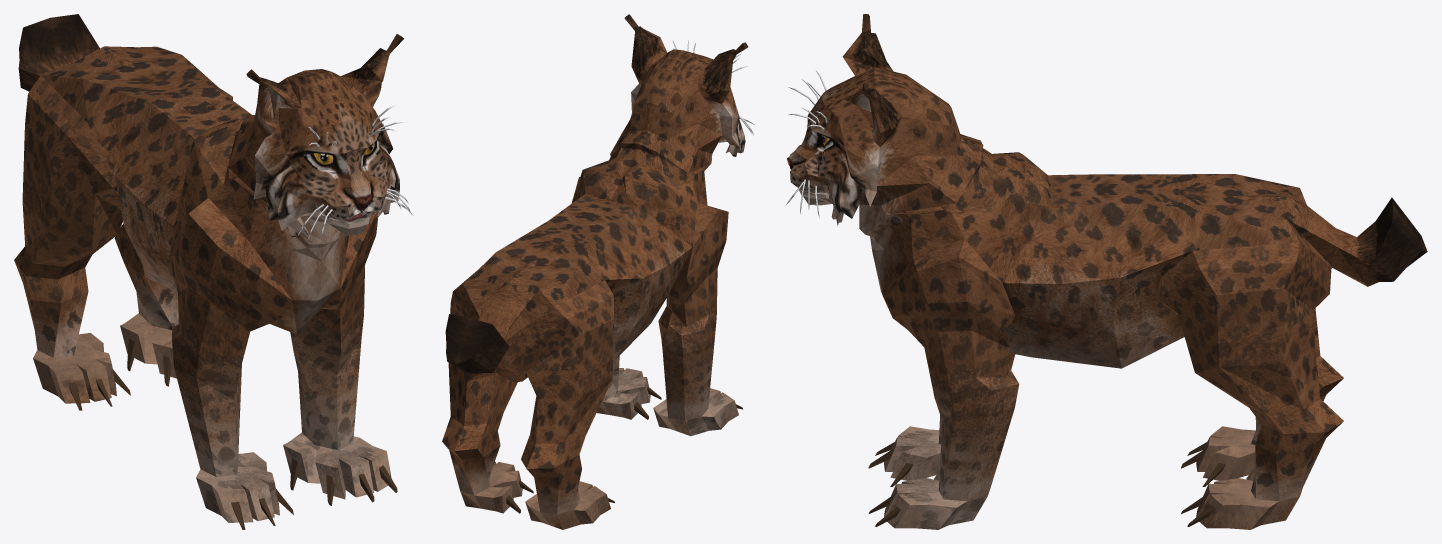
The picture shows the model from 3 angles, left to right: view 1: azimuth 30°, elevation 25°; view 2: azimuth 150°, elevation 25°; view 3: azimuth 270°, elevation 25°; orthographic projection. The views are drawn at different scales.
Parts seen in each view (by area): view 1: lynx_brown2; view 2: lynx_brown2; view 3: lynx_brown2.
Part boxes in pixels (box(x1,y1,x2,y2)): lynx_brown2: box(14, 14, 413, 529); lynx_brown2: box(442, 14, 754, 529); lynx_brown2: box(785, 14, 1427, 529).
Size of the model in its own units: 0.3796 by 0.937 by 1.21.
1 material, 1 textured.
